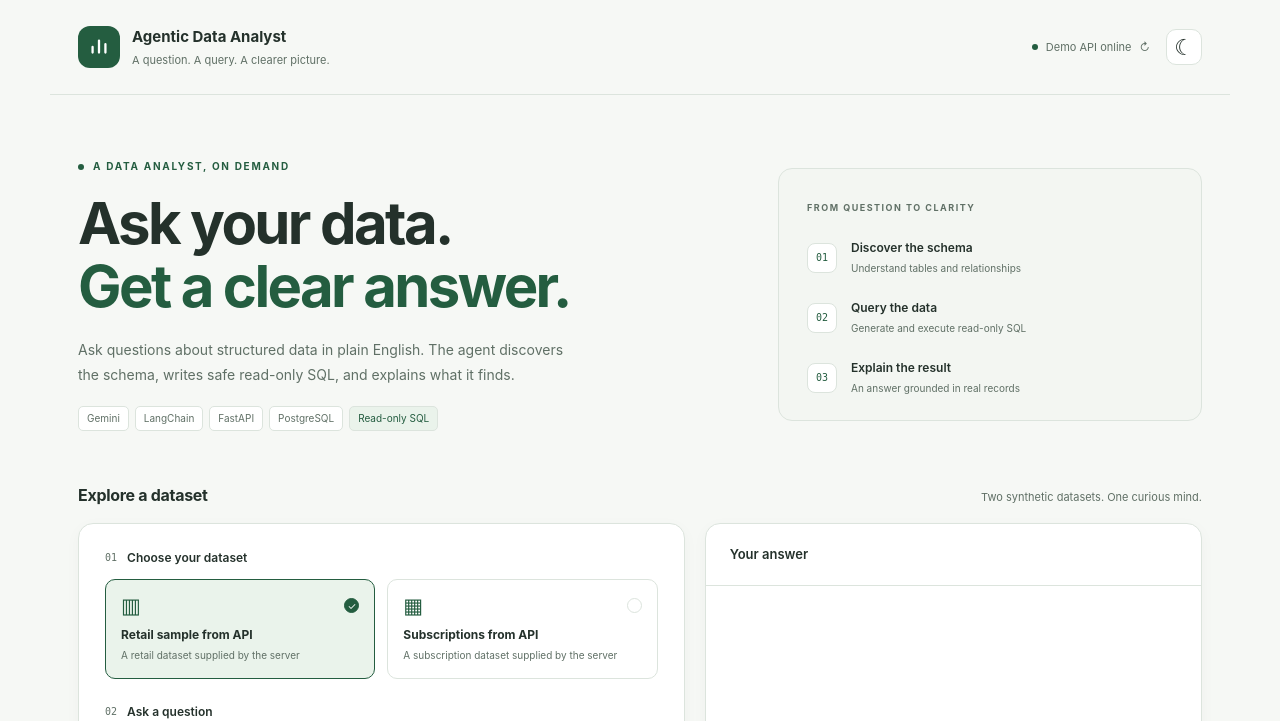
Test case: public analyst workspace › submits the selected profile and trimmed question, then displays the answer
Expected: the radio button labelled "Retail sample" is enabled, [105,579,375,679]
Click the radio button labelled "Subscriptions from API": [522, 629] box [387,579,658,679]
(page scrolled)
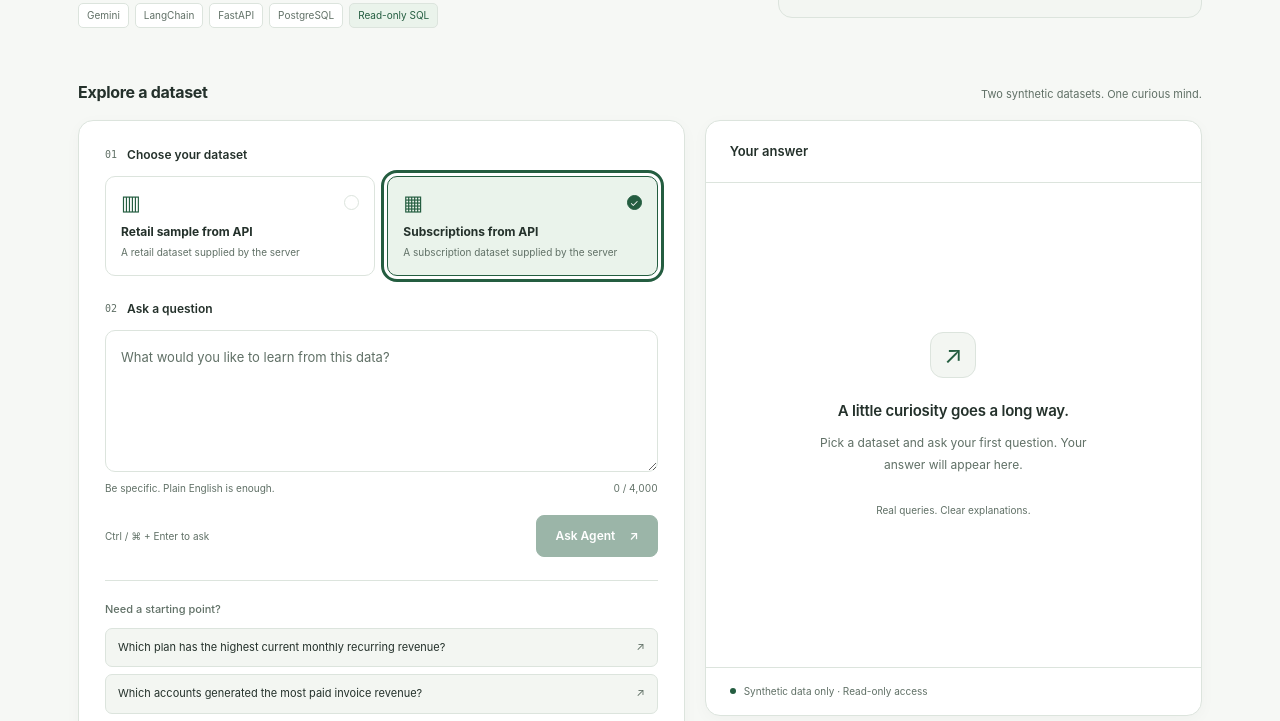
In the text box labelled "02 Ask a question": [381, 401] box [105,330,658,472], type "  Count subscriptions  "
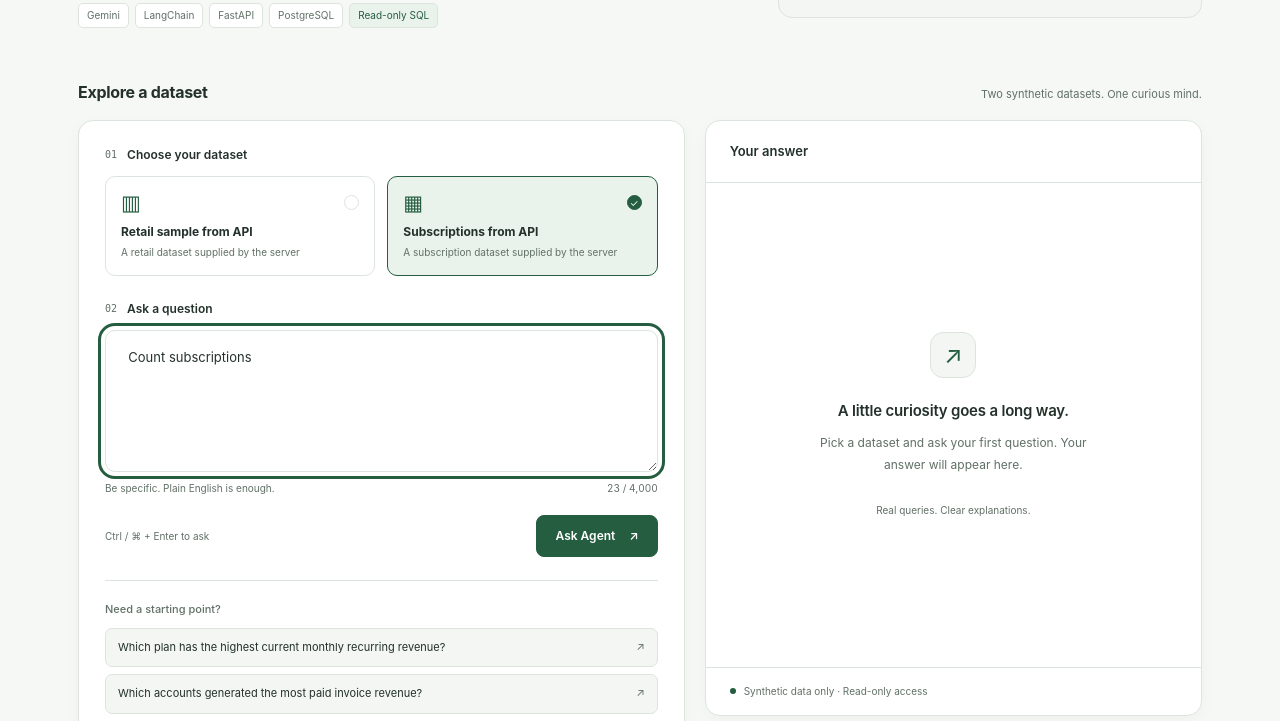
Click the button "Ask Agent ↗": [597, 536] box [536,515,658,557]
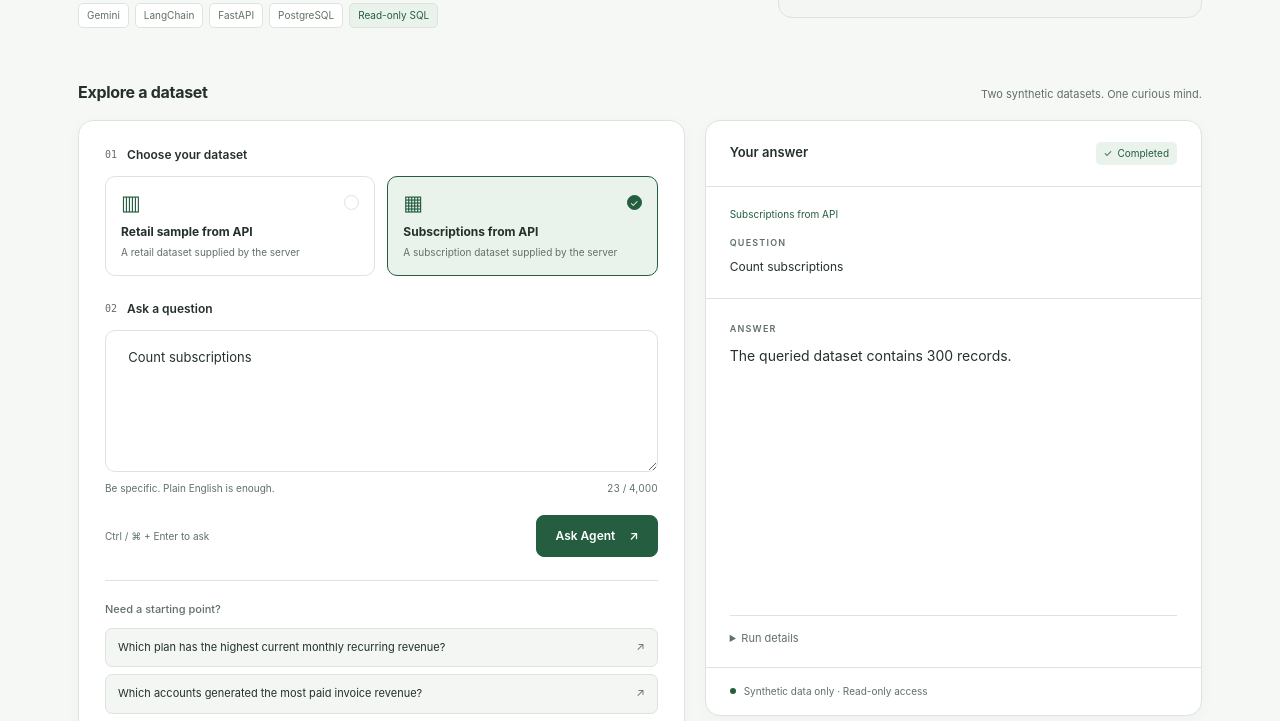
Expected: the text "The queried dataset contains 300 records." is shown, [730,347,1012,364]
Expected: the text "Count subscriptions" is shown, [730,259,844,274]
Expected: the text "Completed" is shown, [1117,147,1169,159]
Click the heading "Run details": [770, 638] box [741,631,799,645]
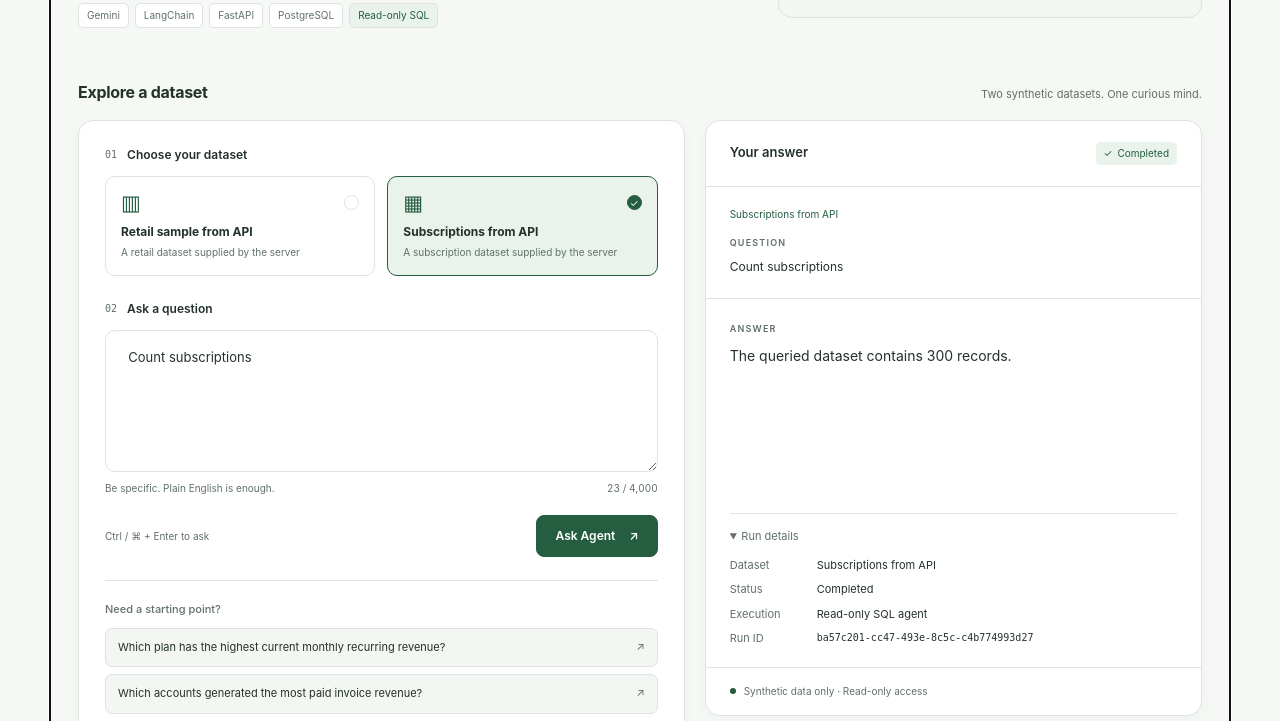
Expected: the text "ba57c201-cc47-493e-8c5c-c4b774993d27" is shown, [817,632,1034,643]
